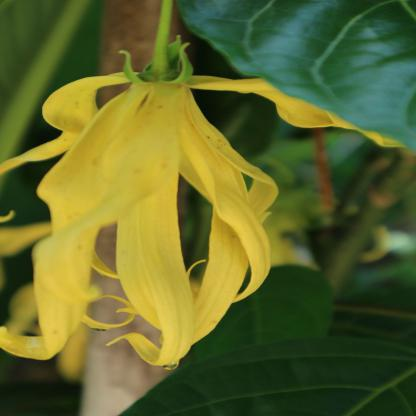Kenanga: (51, 45, 289, 356)
